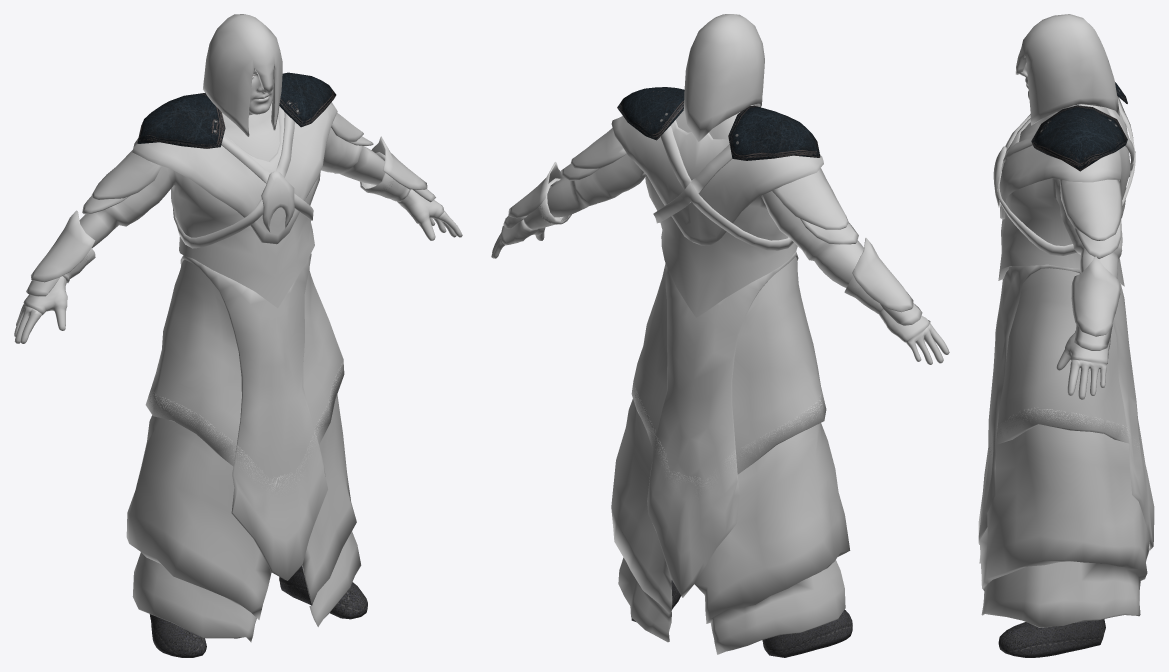
File: Player_Male.FBX
3 renders of one model, left to right at view 1: azimuth 30°, elevation 25°; view 2: azimuth 150°, elevation 25°; view 3: azimuth 270°, elevation 25°, orthographic. The views are drawn at different scales.
Parts seen in each view (by area): view 1: Mage_Tier_3_Torso; view 2: Mage_Tier_3_Torso; view 3: Mage_Tier_3_Torso.
Boxes of the visible parts, bbox=[...] form: Mage_Tier_3_Torso: bbox=[14, 14, 462, 657]; Mage_Tier_3_Torso: bbox=[491, 14, 949, 657]; Mage_Tier_3_Torso: bbox=[978, 14, 1154, 657].
Bounding box in the file's own units: 61.41 × 21.34 × 79.37.
